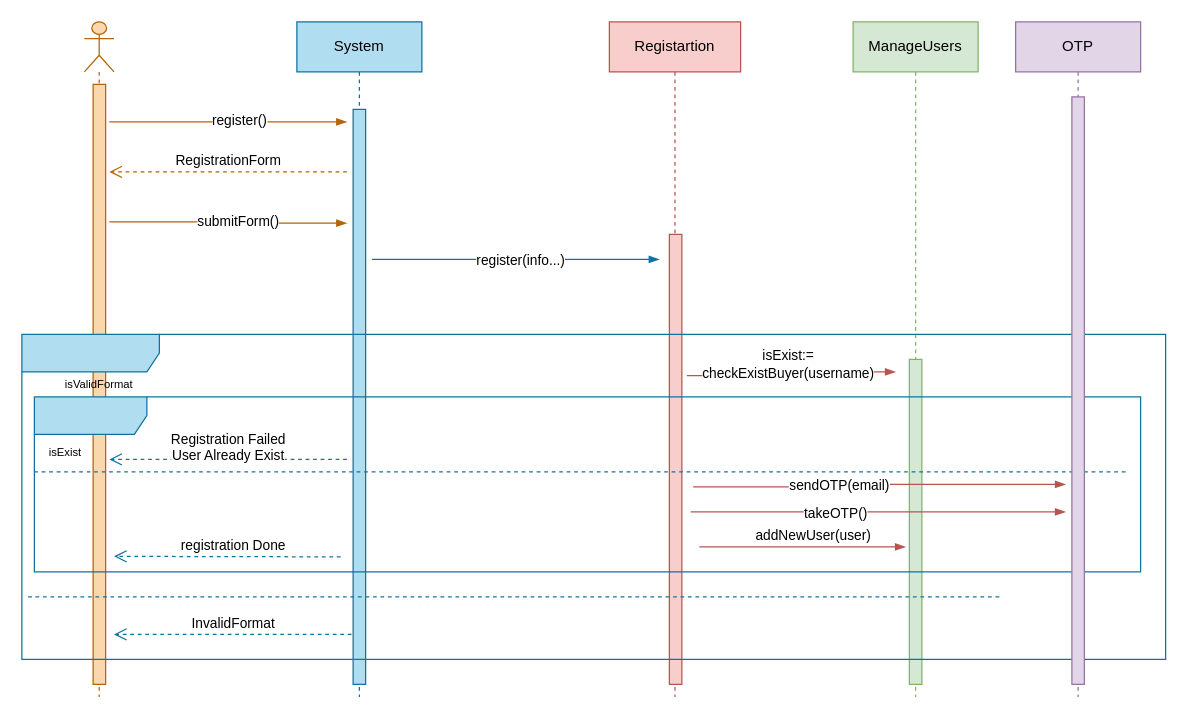
Image size: 1188x719. Some labels were removed from this diagram. The shapes that lost their labels are listed below. From the top down, each one's box as (x1, y1, x2, y2) in pixels, then its label:
(33, 396, 1141, 572): isUserExist
(21, 333, 1166, 659): Valid Format
